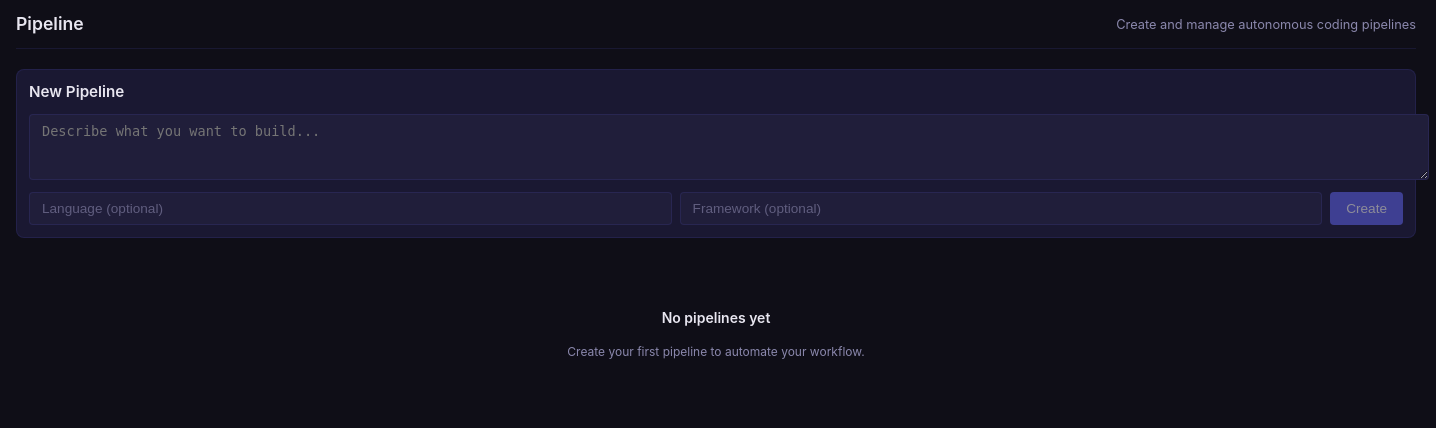
Test: PipelinePanel › shows an error message when pipeline creation fails with a server error
Type "Build a payment service" into the text box with placeholder "Describe what you want to build...".
click(729, 147); type("Build a payment service")  # box 29,114 -> 1429,180
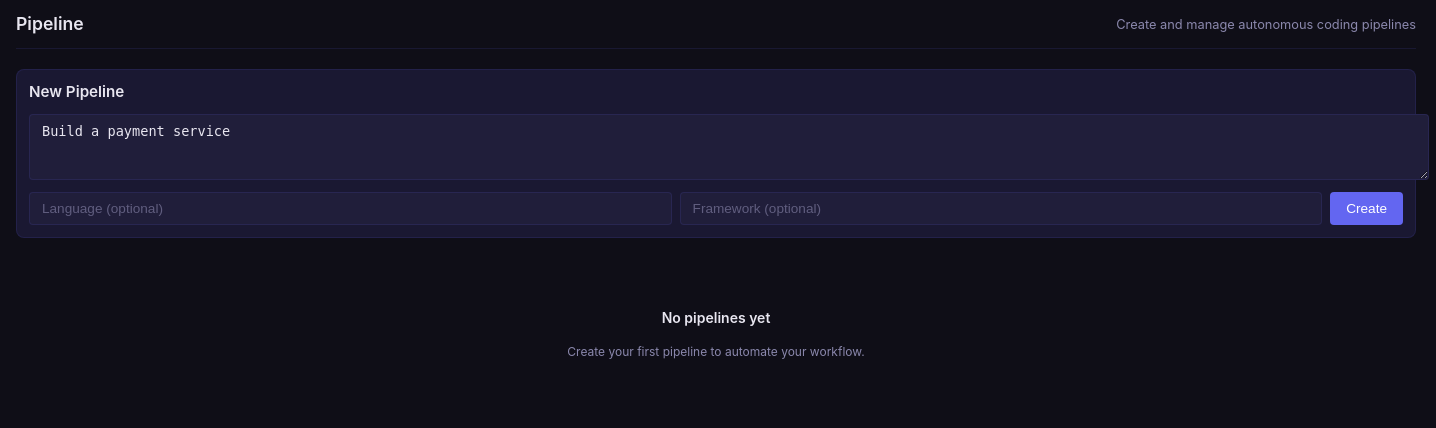
Click the button "Create".
click(1367, 208)  # box 1330,192 -> 1403,225
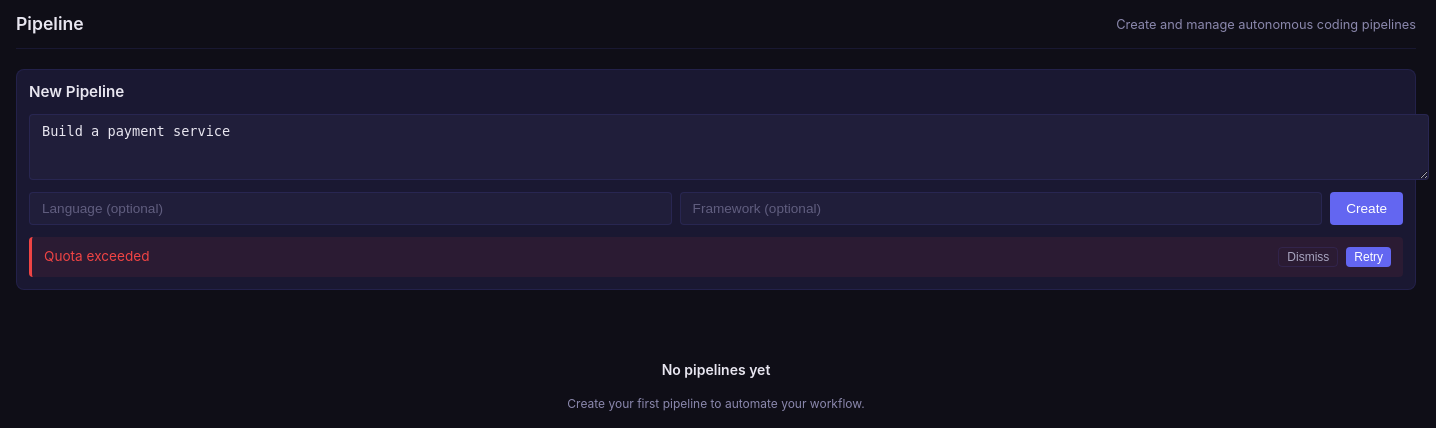
Result: the text "Quota exceeded" is shown at 44,248 -> 150,266
